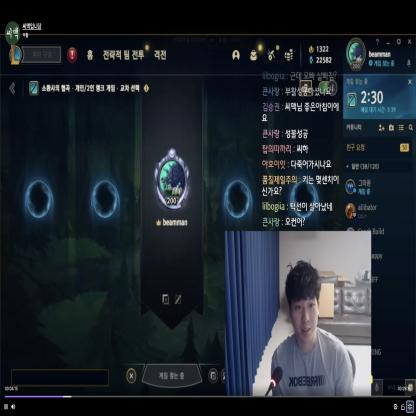streamer: (272, 260, 354, 398)
